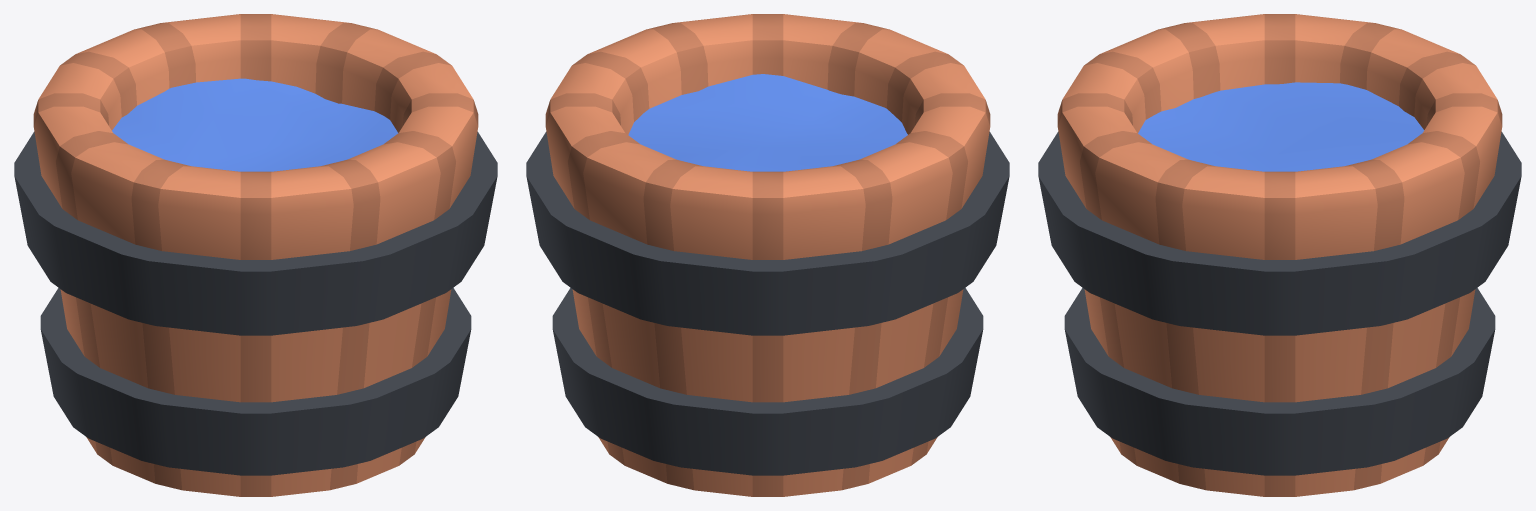
Rendered from Bucket.fbx.
The picture shows the model from 3 angles, left to right: view 1: azimuth 30°, elevation 25°; view 2: azimuth 150°, elevation 25°; view 3: azimuth 270°, elevation 25°; orthographic projection.
Visible parts, largest first — view 1: Bucket; view 2: Bucket; view 3: Bucket.
Boxes of the visible parts, <box> form: Bucket: <box>14,14,497,496</box>; Bucket: <box>526,14,1009,496</box>; Bucket: <box>1038,14,1521,496</box>.
Size of the model in its own units: 108 by 80 by 108.
